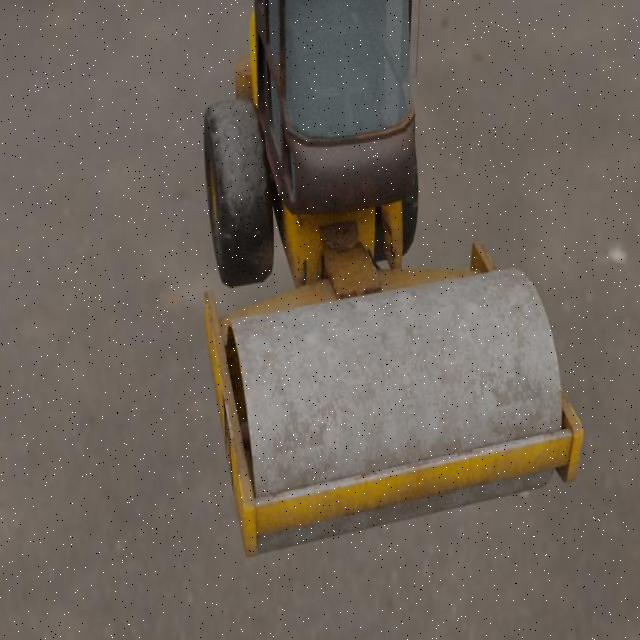Roller: (202, 0, 582, 560)
